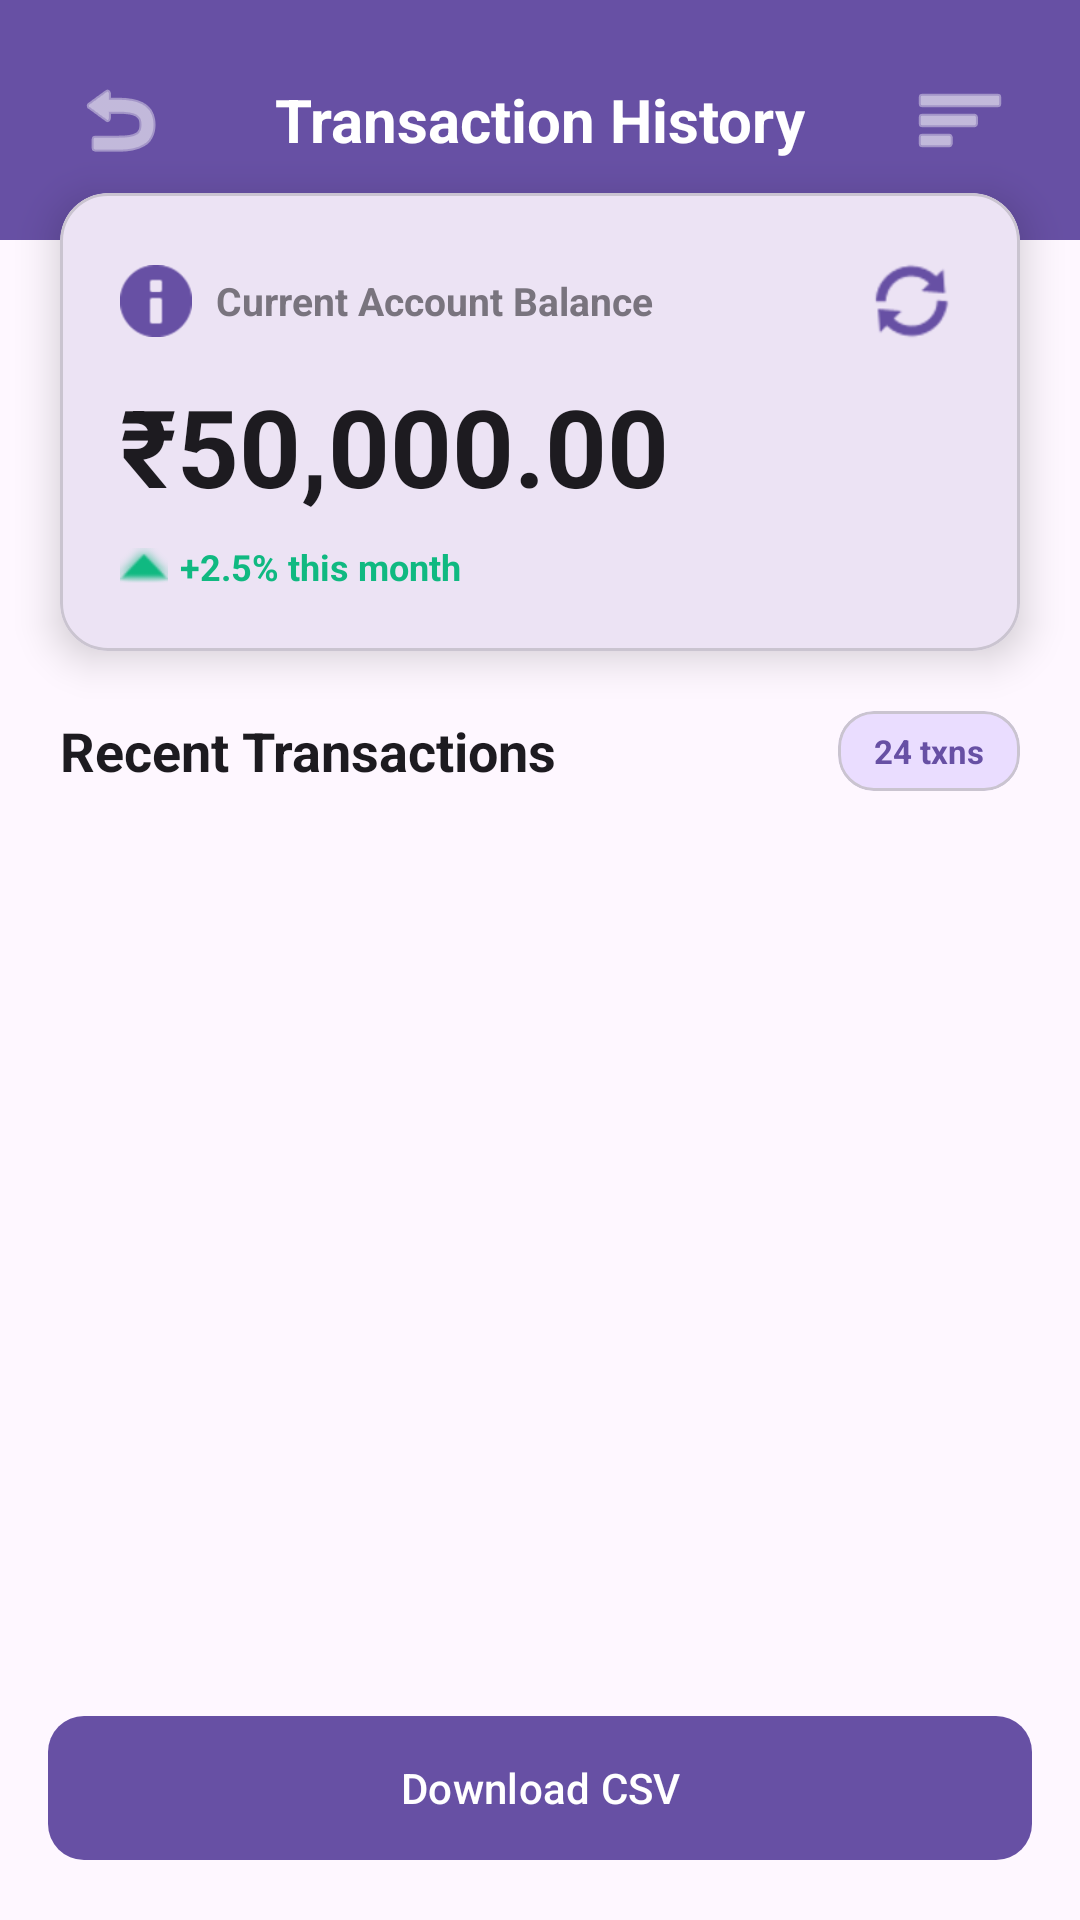

Point at icon controls on the screen. Image size 1080px×1920px, points as (x,y).
Back: (121,120)
Filter: (960,120)
Refresh Balance: (911,301)
Trend: (144,566)
